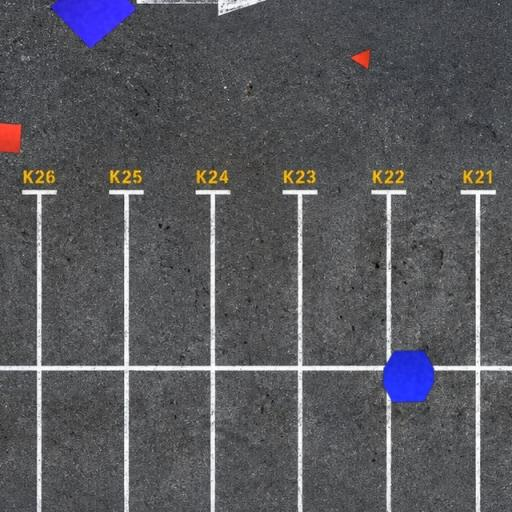BLUE_SQUARE: (50, 0, 138, 49)
RED_SQUARE: (0, 122, 23, 154)
